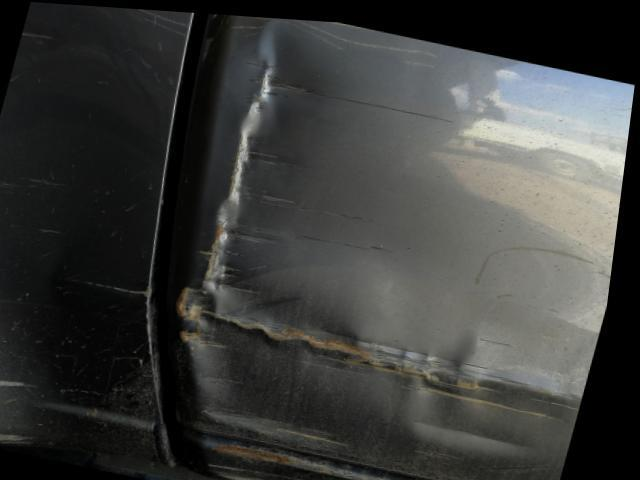dent: (184, 13, 618, 477)
scratch: (0, 345, 57, 448), (211, 456, 339, 480)
